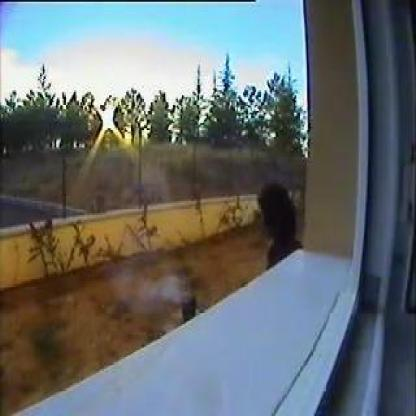-: (147, 273, 191, 304)
